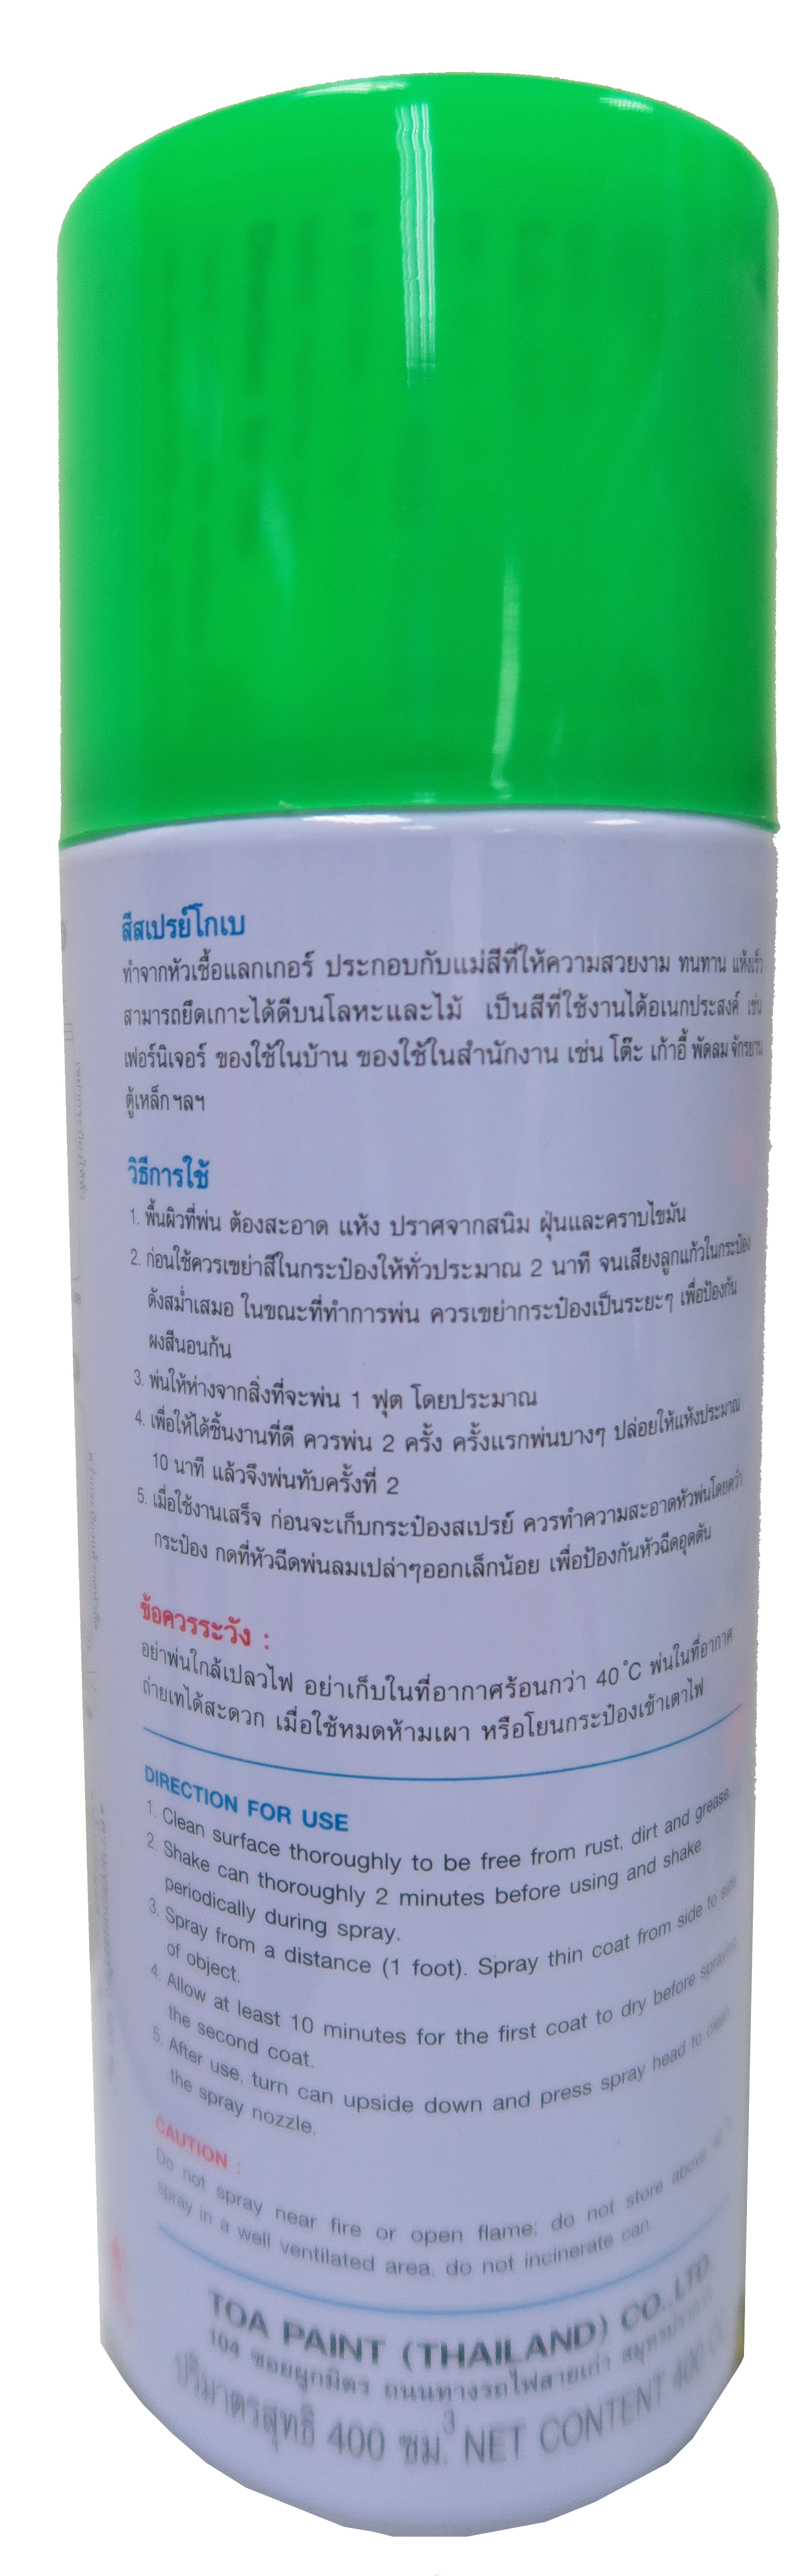Aerosol_cans: (36, 62, 801, 2543)
